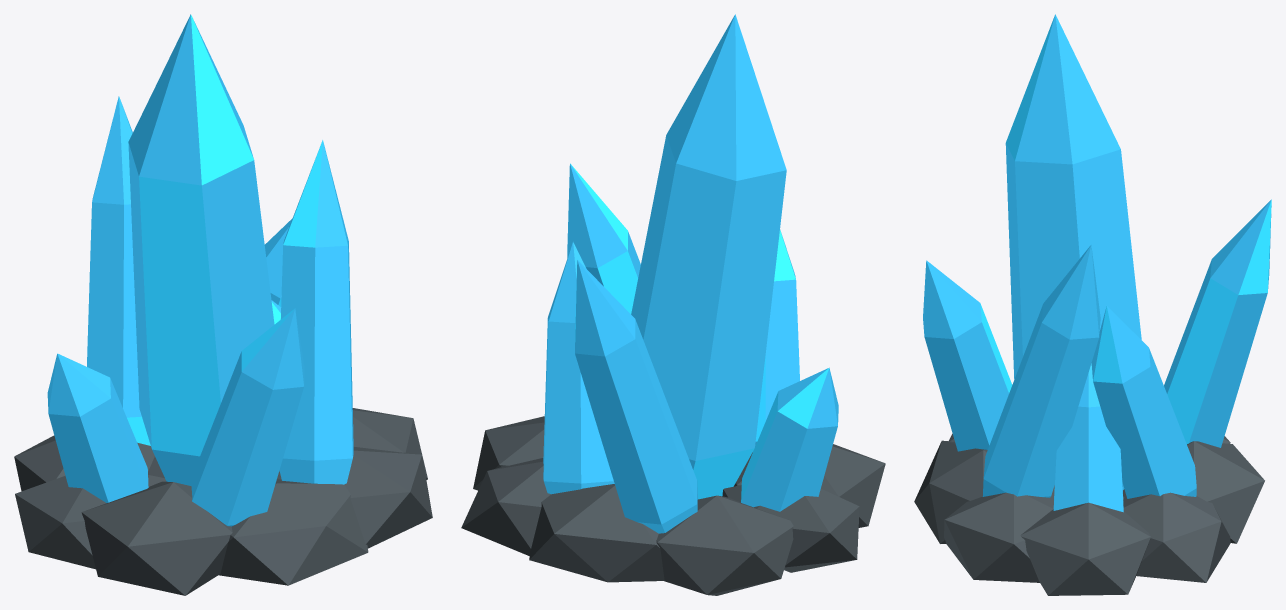
The model's file is crystal.glb.
3 views of the same model, side by side, from view 1: azimuth 30°, elevation 25°; view 2: azimuth 150°, elevation 25°; view 3: azimuth 270°, elevation 25° (orthographic). The views are drawn at different scales.
Parts seen in each view (by area): view 1: Body_crystal.001, Body_matte.006; view 2: Body_crystal.001, Body_matte.006; view 3: Body_crystal.001, Body_matte.006.
Part boxes in pixels (bbox=[...]): Body_crystal.001: bbox=[47, 14, 353, 526]; Body_matte.006: bbox=[14, 408, 432, 595]; Body_crystal.001: bbox=[543, 14, 838, 533]; Body_matte.006: bbox=[461, 416, 885, 595]; Body_crystal.001: bbox=[923, 14, 1271, 512]; Body_matte.006: bbox=[914, 433, 1264, 595].
Bounding box in the file's own units: 1.01 × 1.38 × 0.8815.
